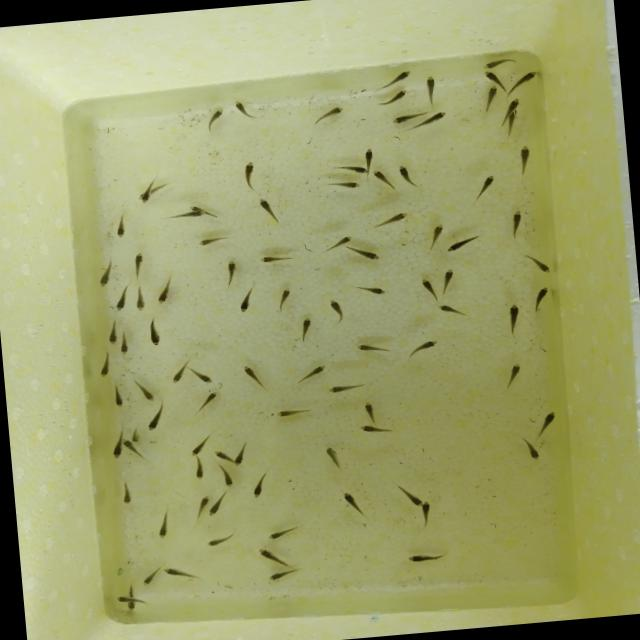fingerling: (253, 192, 284, 230), (400, 337, 442, 362), (189, 388, 222, 419), (256, 544, 295, 570), (308, 104, 347, 128), (442, 233, 483, 255), (469, 172, 498, 203), (242, 362, 270, 394), (92, 255, 119, 288), (522, 250, 556, 276), (477, 51, 519, 72), (368, 210, 412, 230), (160, 562, 200, 584), (504, 205, 529, 240), (531, 408, 560, 438), (230, 96, 266, 120), (290, 363, 330, 384), (509, 70, 544, 94), (434, 300, 472, 322), (420, 222, 446, 253), (247, 468, 272, 500), (264, 522, 304, 542), (514, 142, 534, 182), (382, 66, 415, 90), (153, 505, 174, 542), (518, 434, 542, 466), (201, 531, 239, 551), (272, 404, 314, 422), (528, 285, 553, 315), (263, 565, 304, 583), (342, 492, 368, 520), (396, 484, 422, 512), (322, 444, 348, 472), (238, 160, 260, 192), (187, 432, 214, 458), (354, 340, 392, 358), (504, 302, 524, 336), (128, 375, 153, 402), (326, 380, 368, 396), (480, 70, 510, 92), (130, 280, 150, 313), (420, 74, 439, 108), (354, 421, 392, 438), (370, 167, 398, 190), (378, 87, 410, 107), (144, 316, 164, 348), (112, 280, 132, 312), (352, 282, 387, 300), (202, 106, 228, 130), (144, 405, 168, 431), (187, 364, 215, 386), (416, 276, 441, 300), (115, 476, 135, 506), (407, 550, 444, 566), (351, 244, 382, 263), (480, 86, 500, 115), (134, 567, 160, 589), (196, 234, 236, 248), (505, 360, 525, 388), (131, 250, 149, 281), (166, 360, 188, 385), (324, 233, 354, 251), (157, 276, 176, 304), (331, 164, 369, 178), (326, 296, 346, 322), (396, 162, 416, 188), (327, 178, 363, 192), (210, 448, 235, 468), (217, 464, 236, 490), (236, 288, 256, 312), (112, 210, 128, 240), (260, 251, 294, 265), (190, 456, 208, 482), (389, 111, 420, 126), (168, 208, 206, 220), (418, 502, 433, 532), (106, 434, 124, 459), (424, 110, 452, 126), (442, 266, 459, 292), (98, 351, 114, 378), (232, 441, 248, 467), (222, 260, 236, 289), (296, 318, 312, 343), (274, 288, 292, 310), (106, 318, 120, 346), (108, 384, 124, 408), (118, 330, 132, 357), (362, 400, 378, 422), (207, 500, 224, 518), (128, 424, 143, 444), (360, 146, 376, 162), (504, 97, 521, 111), (138, 190, 152, 205), (112, 594, 130, 604), (198, 494, 211, 507), (124, 600, 138, 612), (121, 438, 132, 452)
